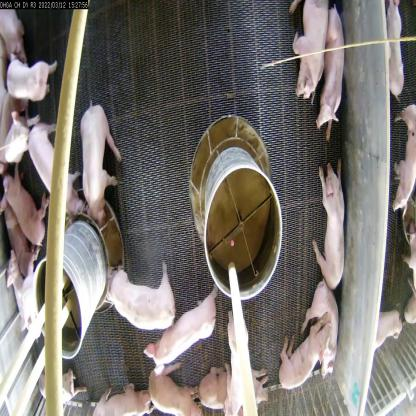Pig: (148, 284, 226, 373), (75, 102, 121, 226), (105, 256, 175, 334), (276, 319, 338, 399), (204, 356, 280, 416), (0, 168, 52, 253), (292, 0, 333, 103), (306, 281, 343, 392), (36, 125, 79, 213), (0, 36, 54, 100), (321, 157, 346, 289), (322, 10, 346, 136), (144, 366, 204, 416), (222, 314, 250, 416), (99, 385, 148, 415)
